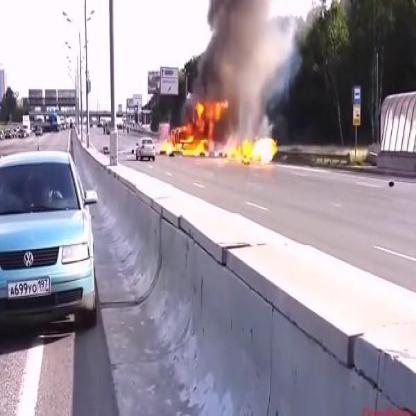fire: (162, 100, 280, 167)
